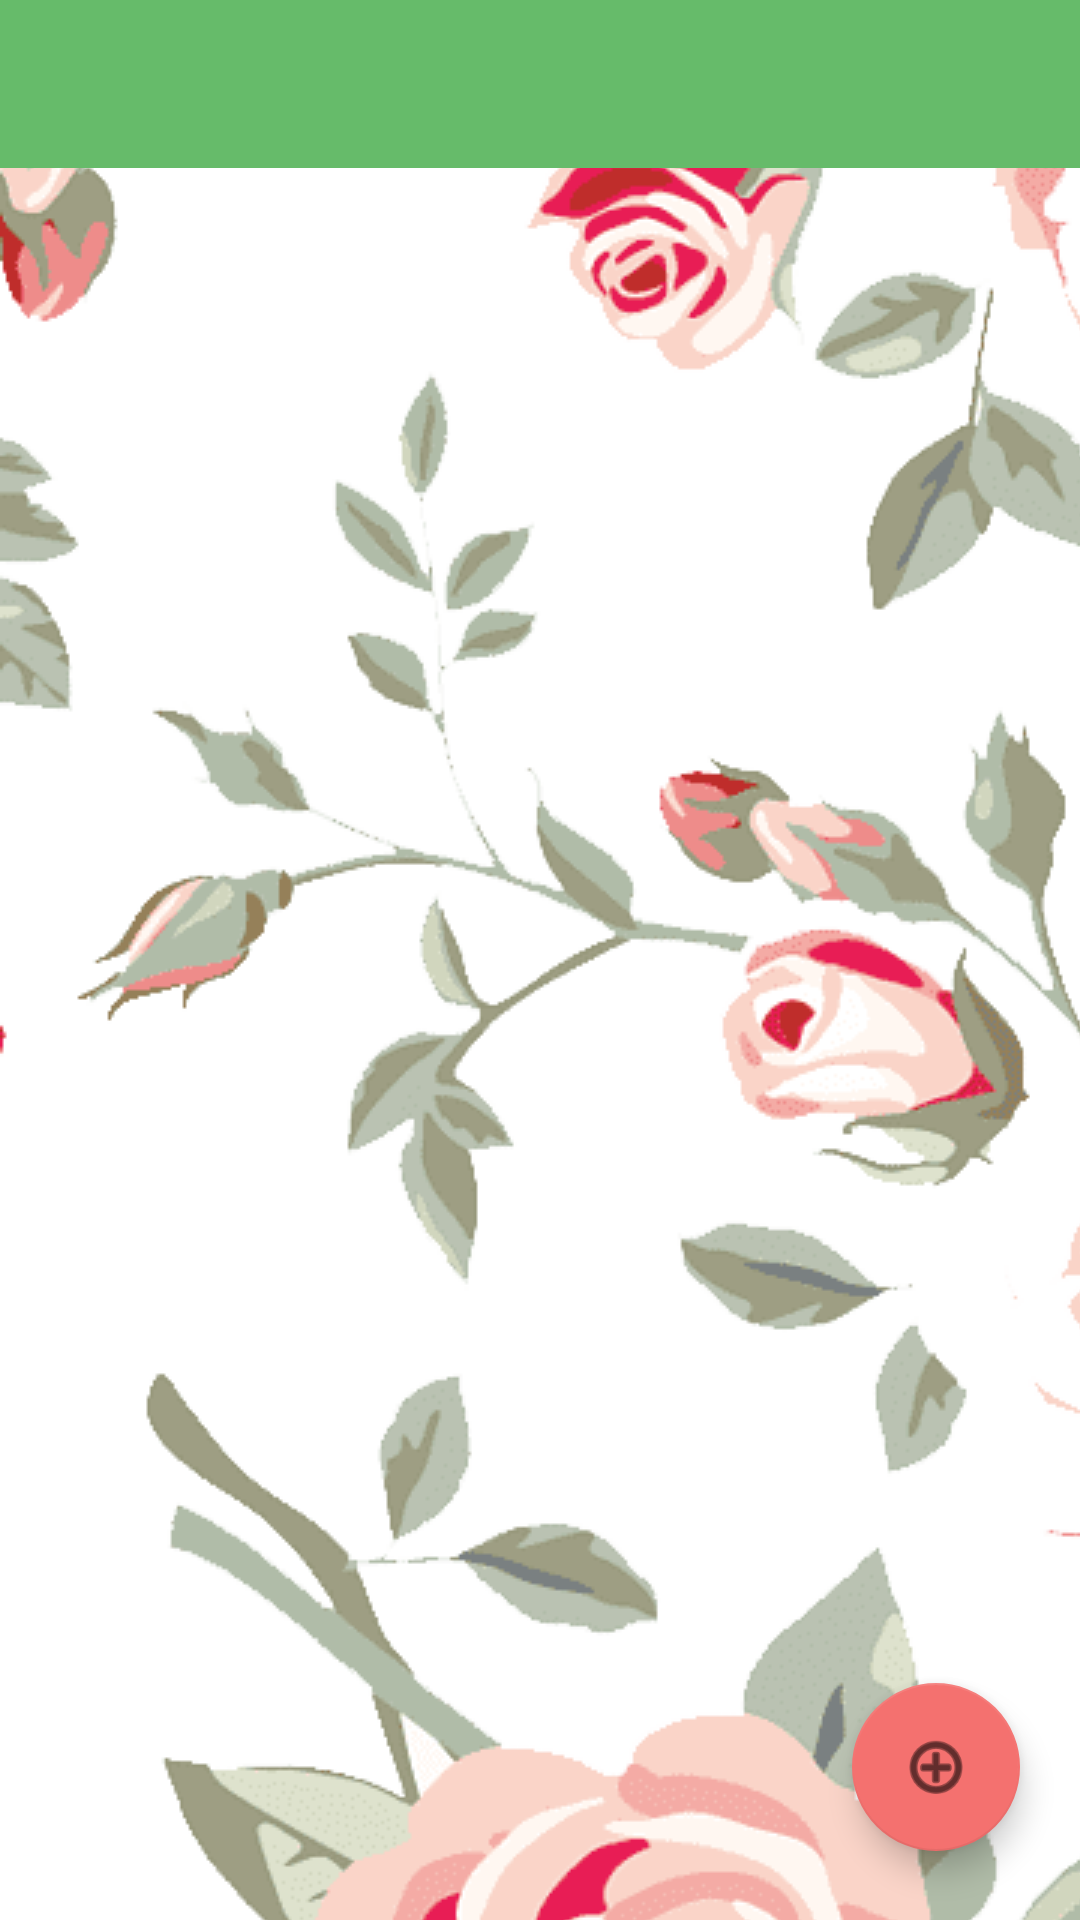

Screen size 1080 x 1920. Icon name, then its center in pixels as (x,y):
add: (936,1767)
